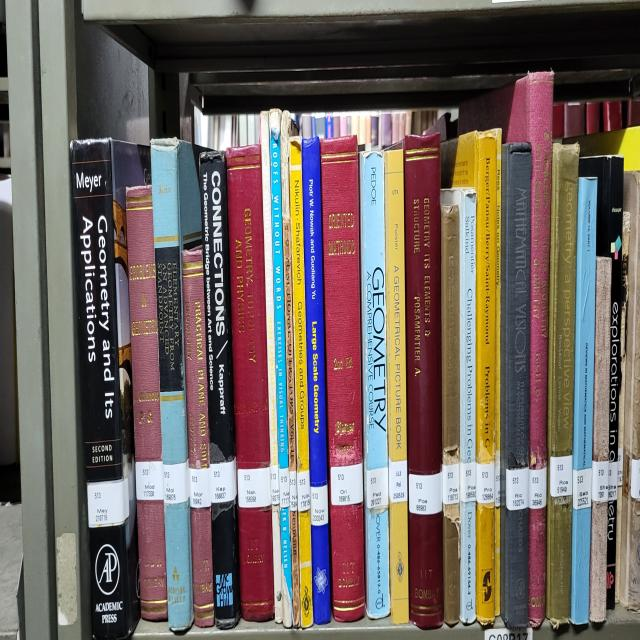Book: (459, 70, 554, 628), (70, 138, 150, 639), (441, 130, 498, 625), (150, 138, 202, 630), (226, 143, 275, 620), (320, 135, 365, 622), (579, 154, 624, 609), (404, 135, 444, 628), (200, 152, 240, 628), (125, 187, 168, 620), (546, 143, 579, 628), (441, 187, 476, 625), (500, 143, 531, 628), (301, 138, 330, 625), (360, 152, 390, 620), (182, 246, 214, 628), (384, 149, 409, 625), (289, 138, 312, 628), (260, 111, 282, 622), (571, 179, 596, 625), (270, 124, 292, 625), (616, 170, 640, 611), (280, 111, 300, 628), (620, 170, 640, 609), (589, 257, 611, 622), (441, 206, 460, 625)
Label: (88, 479, 129, 528), (330, 463, 364, 506), (238, 465, 271, 509), (409, 471, 442, 514), (210, 457, 236, 503), (135, 460, 164, 501), (162, 460, 189, 503), (366, 465, 389, 509), (506, 468, 529, 511), (550, 455, 572, 498), (189, 468, 211, 509), (389, 460, 408, 503), (310, 484, 329, 525), (572, 468, 591, 509), (591, 460, 609, 503), (476, 463, 495, 503), (442, 463, 459, 506), (529, 468, 546, 509), (460, 463, 476, 503), (298, 471, 310, 511), (279, 468, 290, 509), (608, 460, 619, 501), (630, 457, 640, 501), (270, 465, 280, 506), (289, 471, 298, 511), (495, 449, 500, 509), (618, 446, 624, 487)
